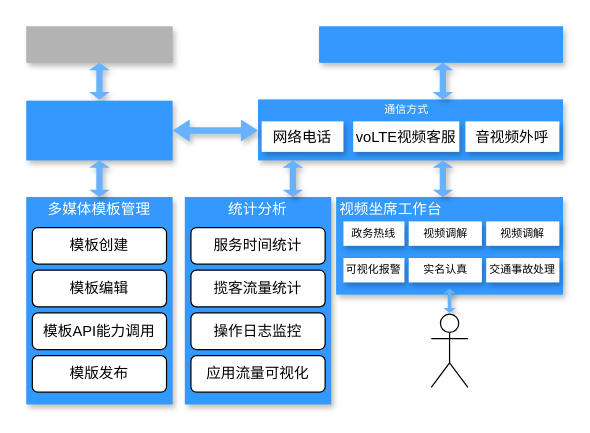
This 590x433 diagram has some shape labels left out. The shapes that lost their labels are listed below. From the top down, each one's centre as x and y in pixels, then its label:
(100,46): 应用层/第三方应用
(442,46): 运营商voLTE专线申请
(100,131): 能力开放
(449,350): 用户
